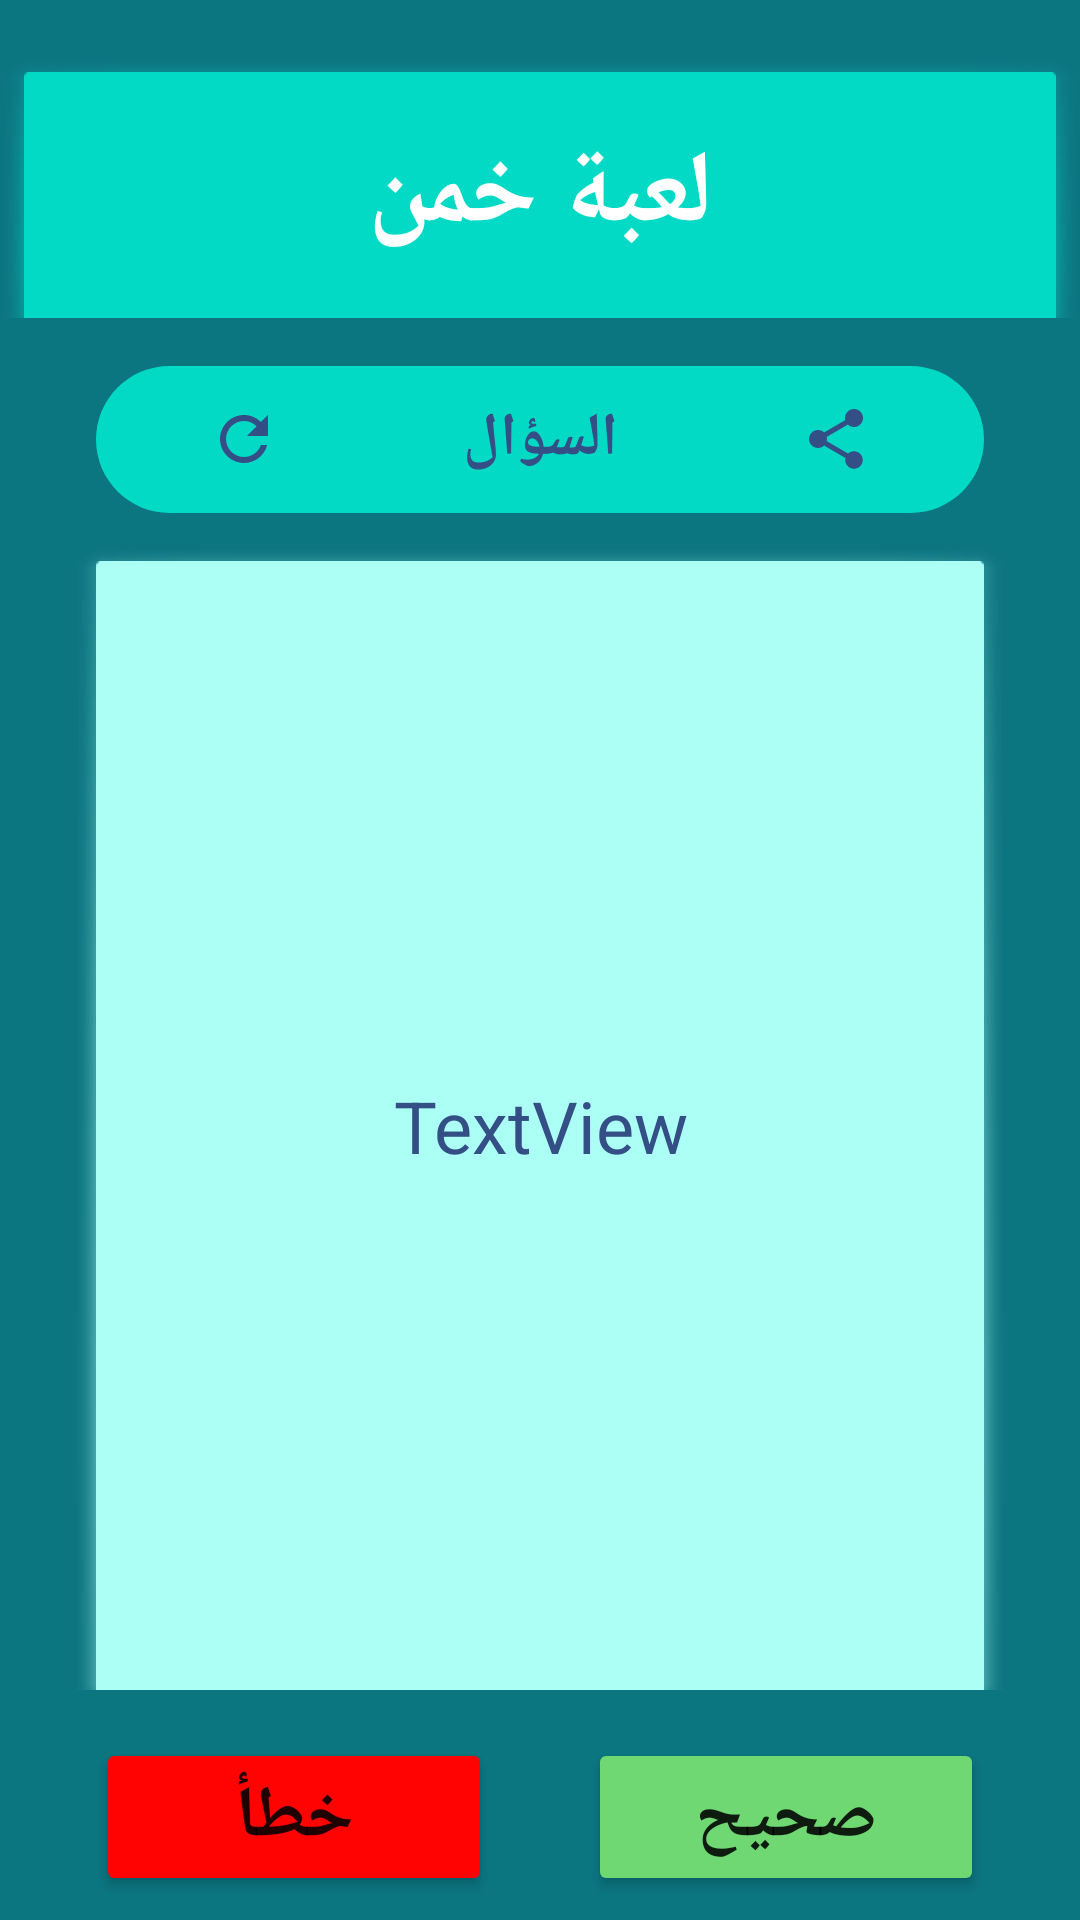

Icon bounding boxes for this 1080px x 1920px phone screenshot, format (x1, y1, x2, y2):
refresh: (220, 415, 268, 463)
share: (809, 409, 863, 469)
